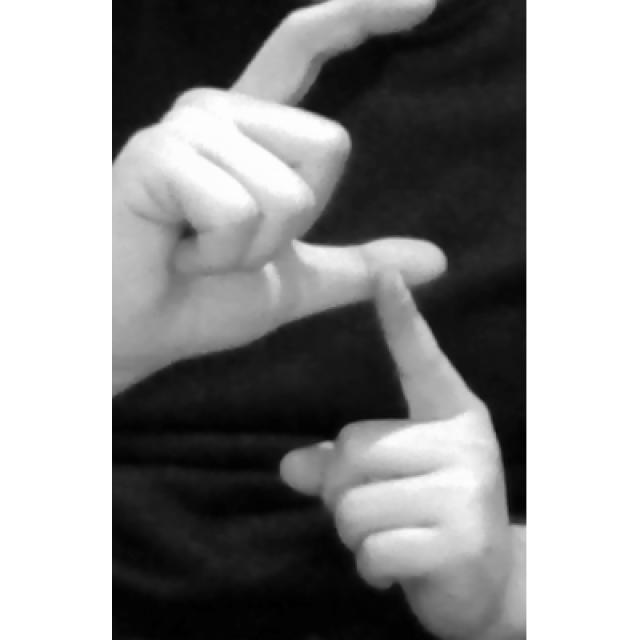C_: (112, 0, 526, 640)
